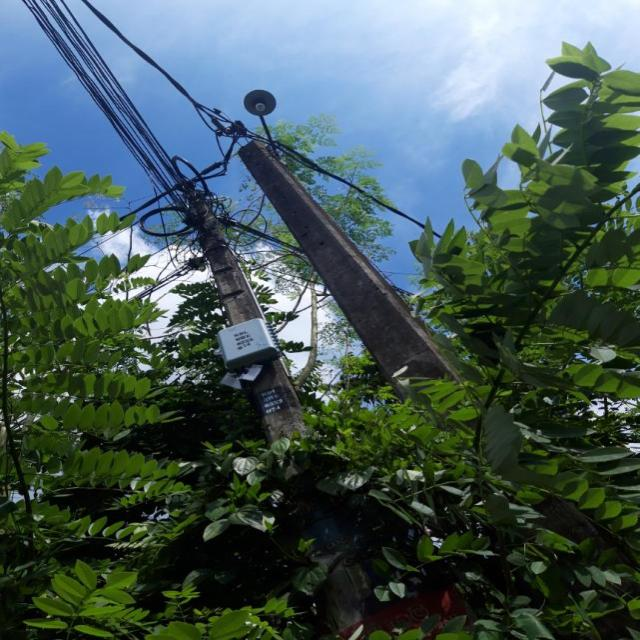light_pole: (238, 81, 532, 449), (158, 177, 377, 640)
